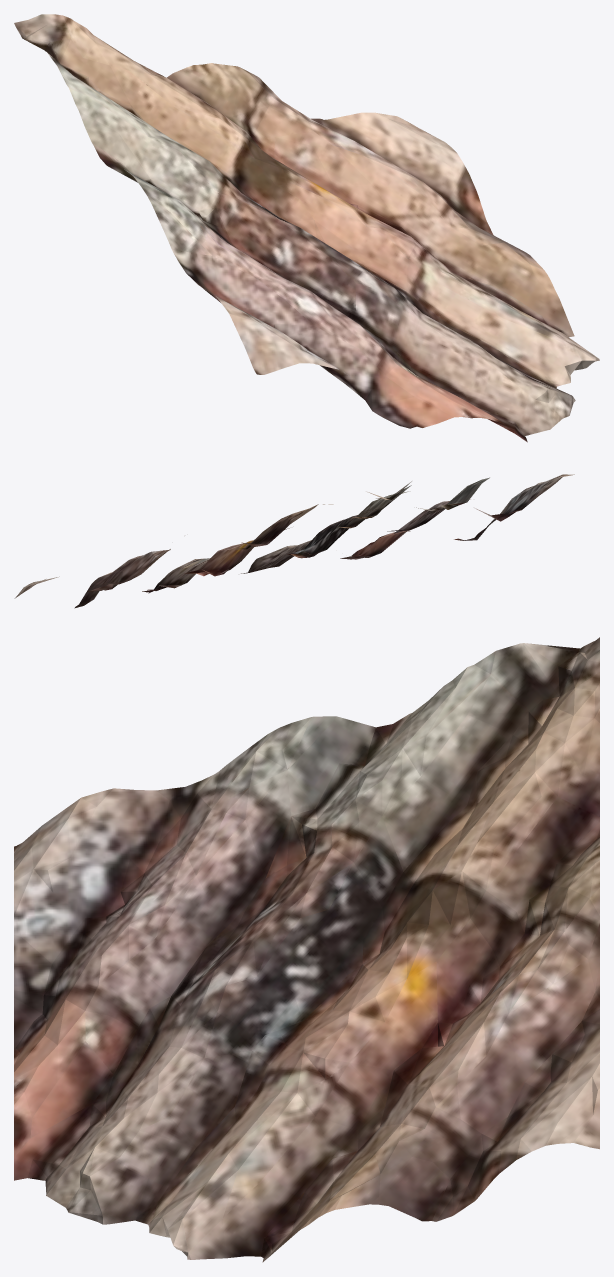
3 views of the same model, one above another, from view 1: azimuth 30°, elevation 25°; view 2: azimuth 150°, elevation 25°; view 3: azimuth 270°, elevation 25° (orthographic). The views are drawn at different scales.
Bounding box in the file's own units: 0.8373 × 0.5998 × 0.8374.
3 materials, 3 textured.
